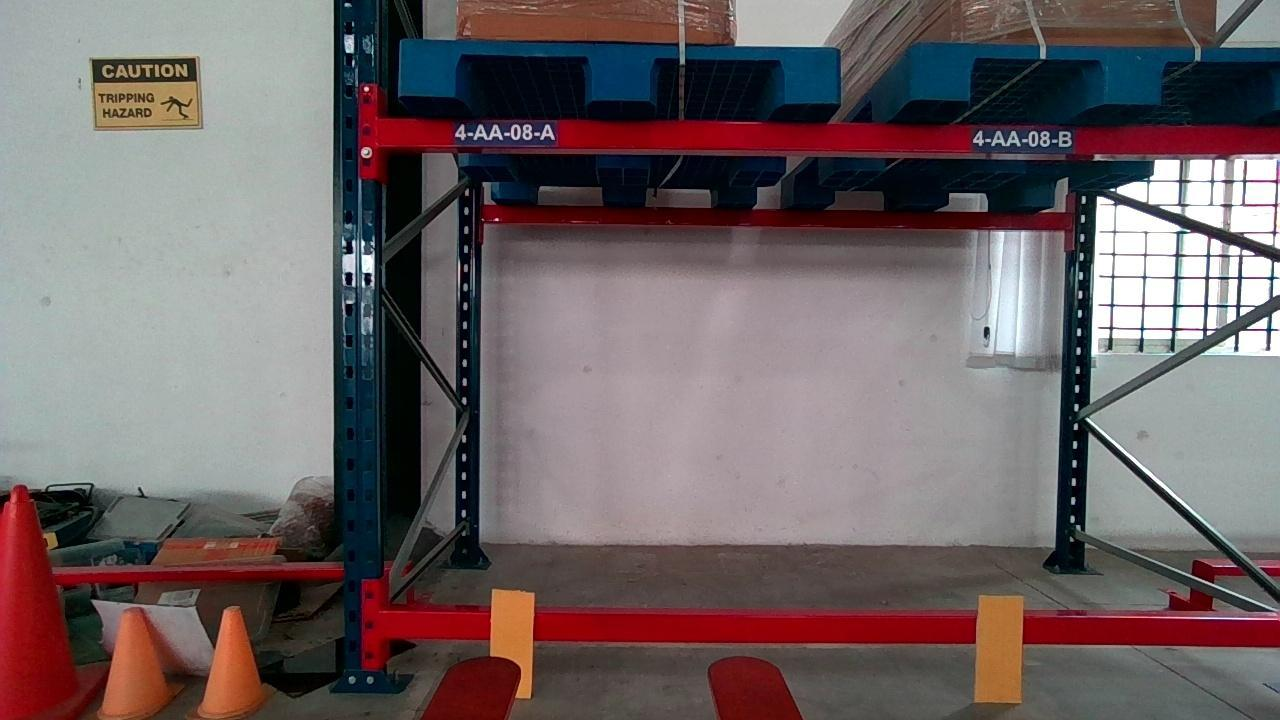h_rack: (383, 610, 1279, 649), (385, 117, 1280, 151)
orange_strip: (483, 591, 533, 698), (976, 593, 1020, 702)
small_pallet: (398, 42, 837, 107), (913, 42, 1275, 114)
